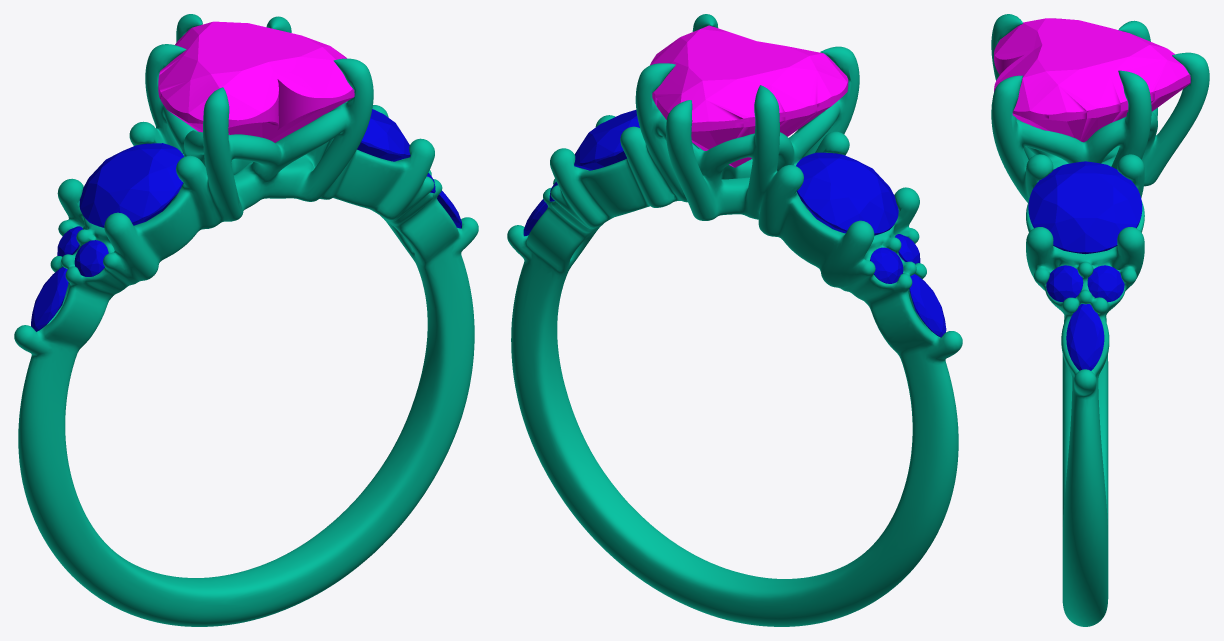
Rendered from BE1D974_HT_200ct_RENDER.glb.
3 views of the same model, side by side, from view 1: azimuth 30°, elevation 25°; view 2: azimuth 150°, elevation 25°; view 3: azimuth 270°, elevation 25° (orthographic). The views are drawn at different scales.
Visible parts, largest first — view 1: Metal 01, CS_Diamond_Heart, Diamond_Round_side.002, Diamond_Round_side.005, Diamond_Marquise_side, Diamond_Round_side; view 2: Metal 01, CS_Diamond_Heart, Diamond_Round_side.002, Diamond_Round_side.005, Diamond_Marquise_side, Diamond_Round_side.001; view 3: Metal 01, CS_Diamond_Heart, Diamond_Round_side.005, Diamond_Marquise_side.001, Diamond_Round_side.004, Diamond_Round_side.003.
Part boxes in pixels (box(x1,y1,x2,y2)): Metal 01: box(14, 14, 478, 626); CS_Diamond_Heart: box(158, 21, 354, 142); Diamond_Round_side.002: box(79, 143, 184, 227); Diamond_Round_side.005: box(357, 109, 410, 161); Diamond_Marquise_side: box(31, 267, 68, 331); Diamond_Round_side: box(74, 240, 108, 276); Metal 01: box(507, 14, 962, 626); CS_Diamond_Heart: box(650, 25, 848, 167); Diamond_Round_side.002: box(796, 152, 898, 235); Diamond_Round_side.005: box(574, 110, 639, 170); Diamond_Marquise_side: box(909, 274, 946, 337); Diamond_Round_side.001: box(870, 247, 903, 283); Metal 01: box(991, 14, 1209, 626); CS_Diamond_Heart: box(994, 18, 1190, 142); Diamond_Round_side.005: box(1028, 161, 1142, 254); Diamond_Marquise_side.001: box(1066, 304, 1104, 370); Diamond_Round_side.004: box(1087, 265, 1124, 302); Diamond_Round_side.003: box(1046, 265, 1083, 302).
Bounding box in the file's own units: 20.49 × 24.32 × 8.62.
